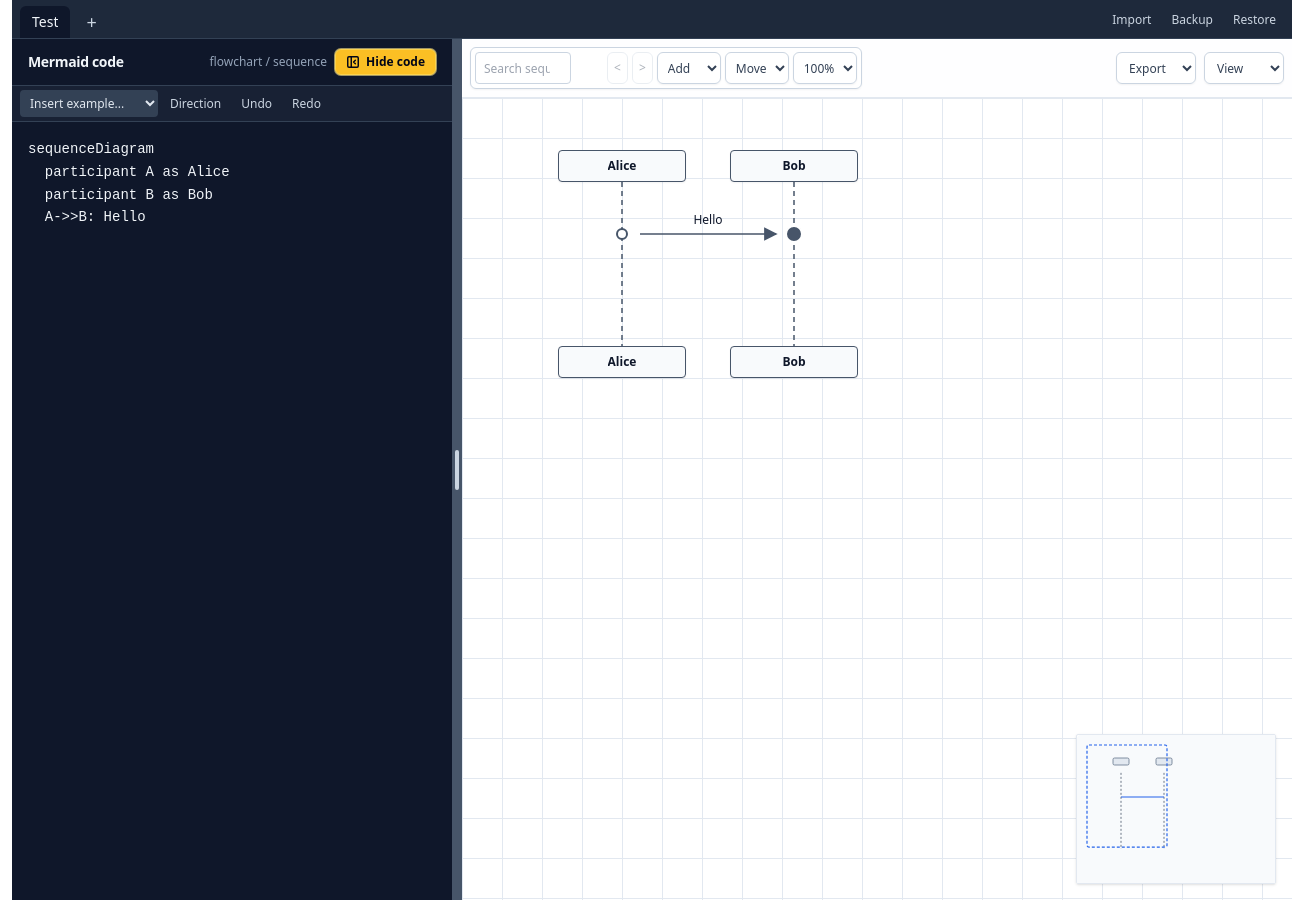
MermaidVisualEditor: node label editing › toggles the sequence diagram grid from the view options menu
Expected: the element with test id "sequence-grid-background" is shown, [462, 98, 1291, 899]
Select "Grid off" in the dropdown named "View options" at (1244, 68), box [1204, 52, 1284, 84]
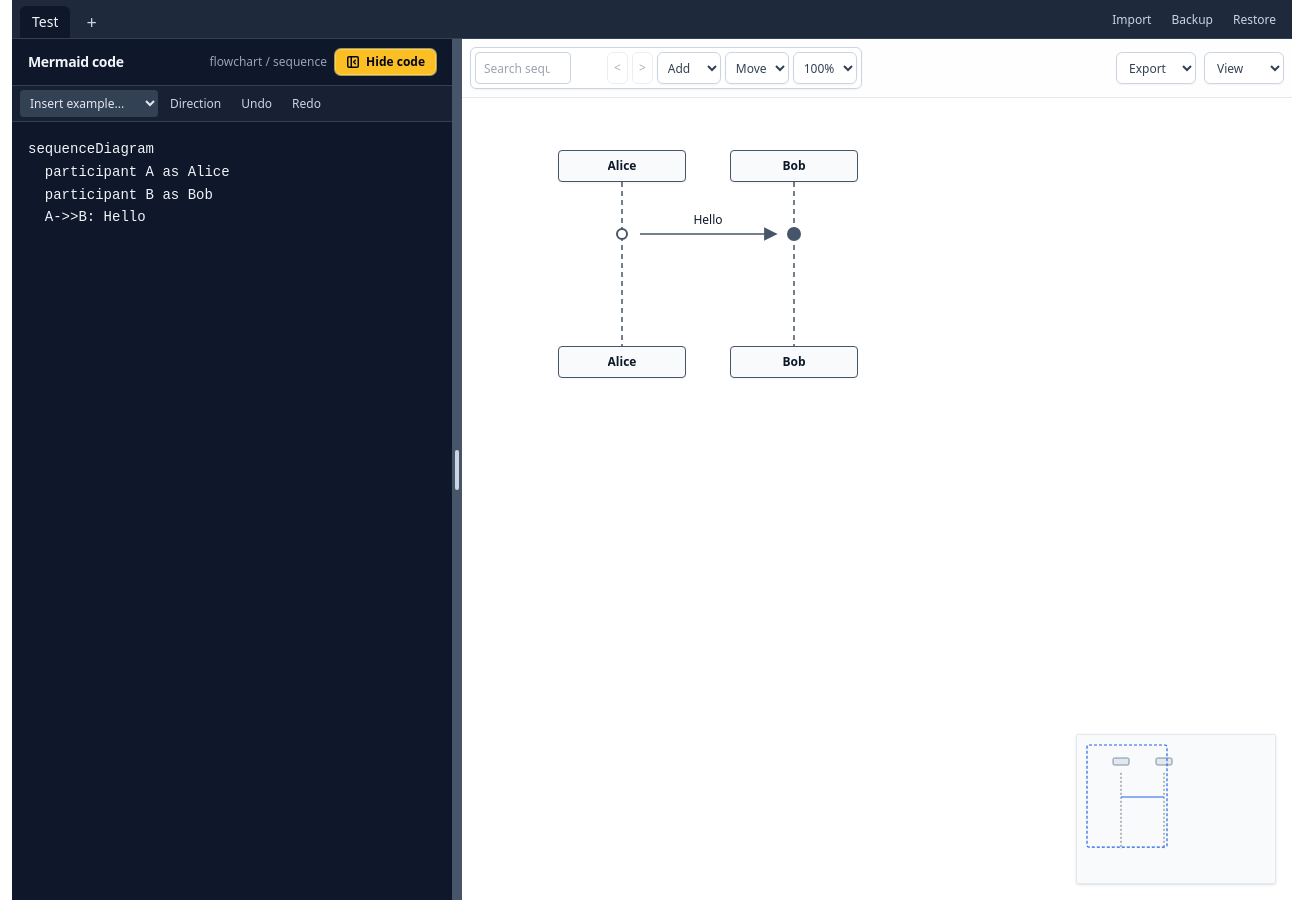
Now the element with test id "sequence-grid-background" is gone
Select "Grid on" in the dropdown named "View options" at (1244, 68), box [1204, 52, 1284, 84]
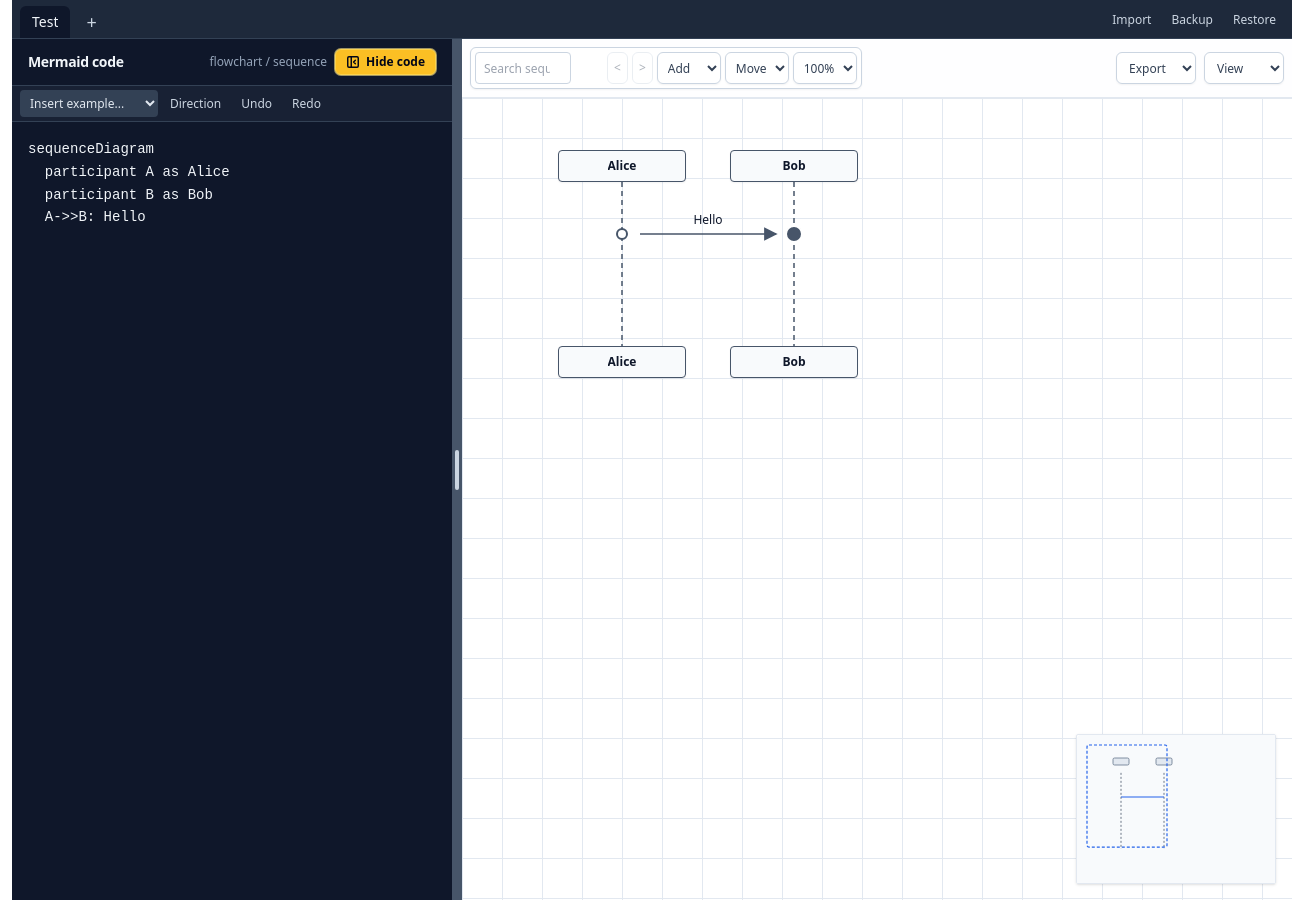
Now the element with test id "sequence-grid-background" is shown, box [462, 98, 1291, 899]
